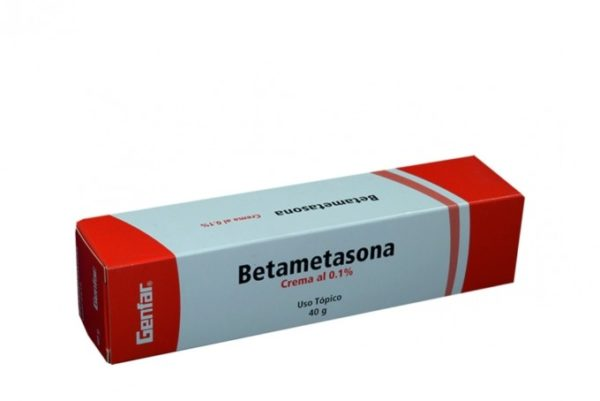Genfar: (106, 209, 523, 360)
